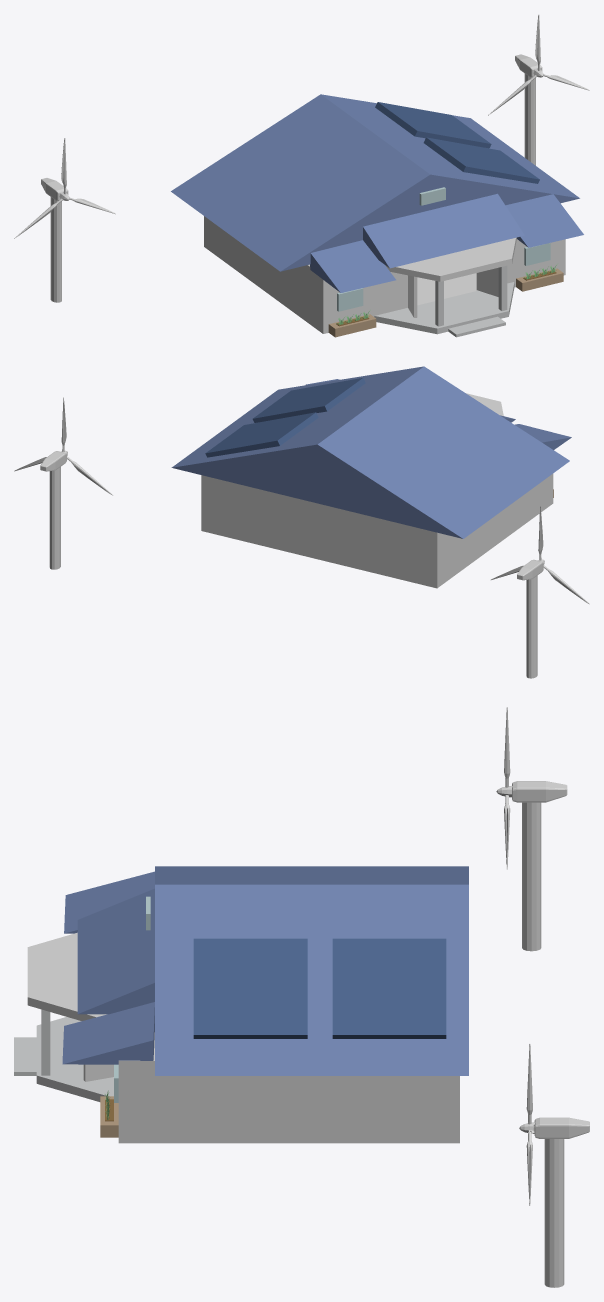
File: house2.glb
3 renders of one model, top to bottom at view 1: azimuth 30°, elevation 25°; view 2: azimuth 150°, elevation 25°; view 3: azimuth 270°, elevation 25°, orthographic. The views are drawn at different scales.
Visible parts, largest first — view 1: Mesh_Mesh_head_geo.001_lambert2SG.001; view 2: Mesh_Mesh_head_geo.001_lambert2SG.001; view 3: Mesh_Mesh_head_geo.001_lambert2SG.001.
Part boxes in pixels (left/top/right/bottom): Mesh_Mesh_head_geo.001_lambert2SG.001: left=14, top=15, right=589, bottom=337; Mesh_Mesh_head_geo.001_lambert2SG.001: left=14, top=366, right=589, bottom=678; Mesh_Mesh_head_geo.001_lambert2SG.001: left=14, top=707, right=589, bottom=1287.
Bounding box in the file's own units: 0.212 × 0.0584 × 0.1266.
